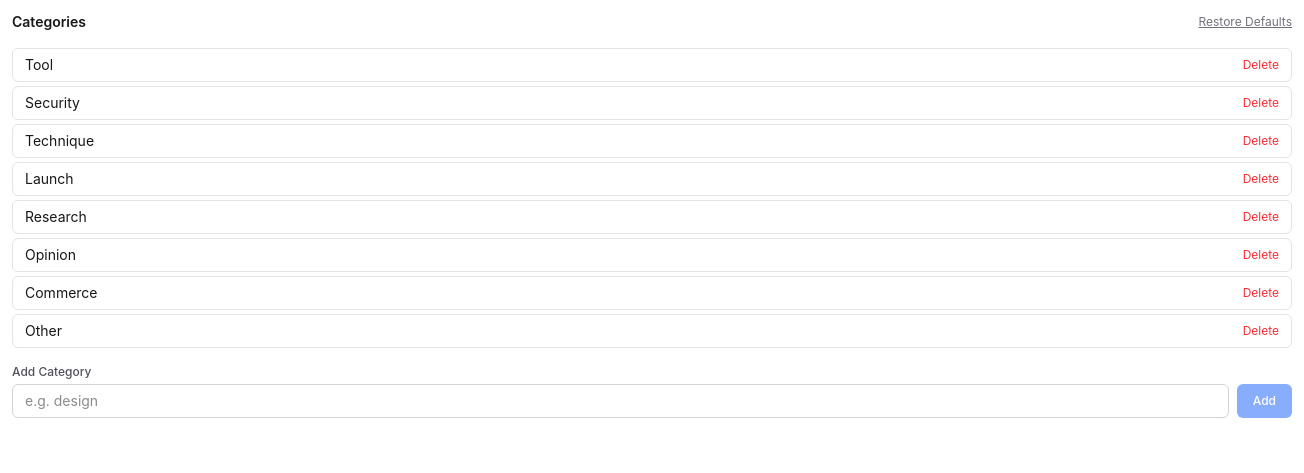
Scenario: CategoryEditor — adding a category › adds a new category and saves to sync storage
Type "design" into the field labelled "Add Category". click: (620, 401)
box: top-left (12, 384), bottom-right (1229, 418)
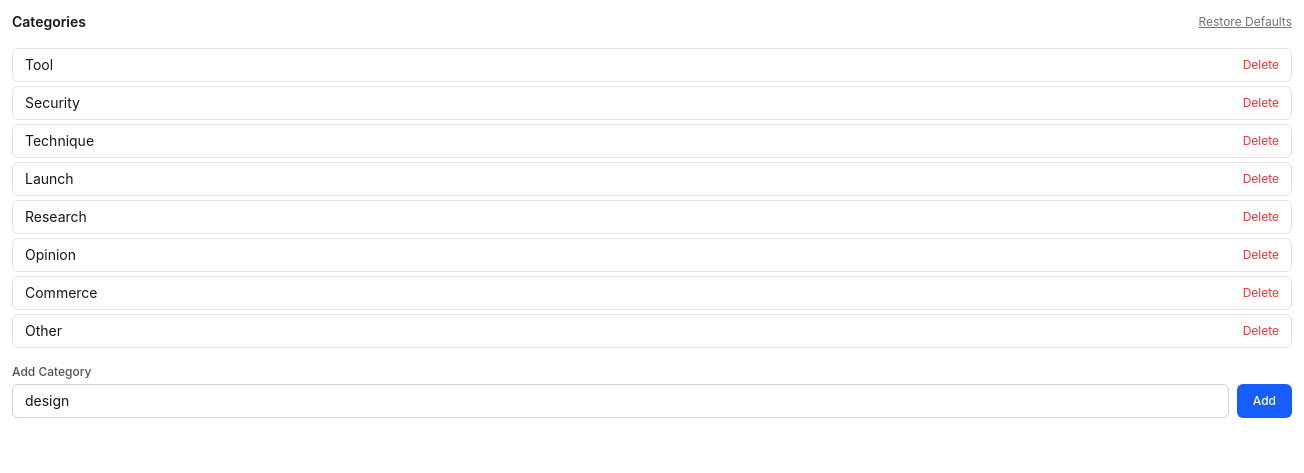
Click the button "Add". click: (1264, 401)
box: top-left (1237, 384), bottom-right (1292, 418)
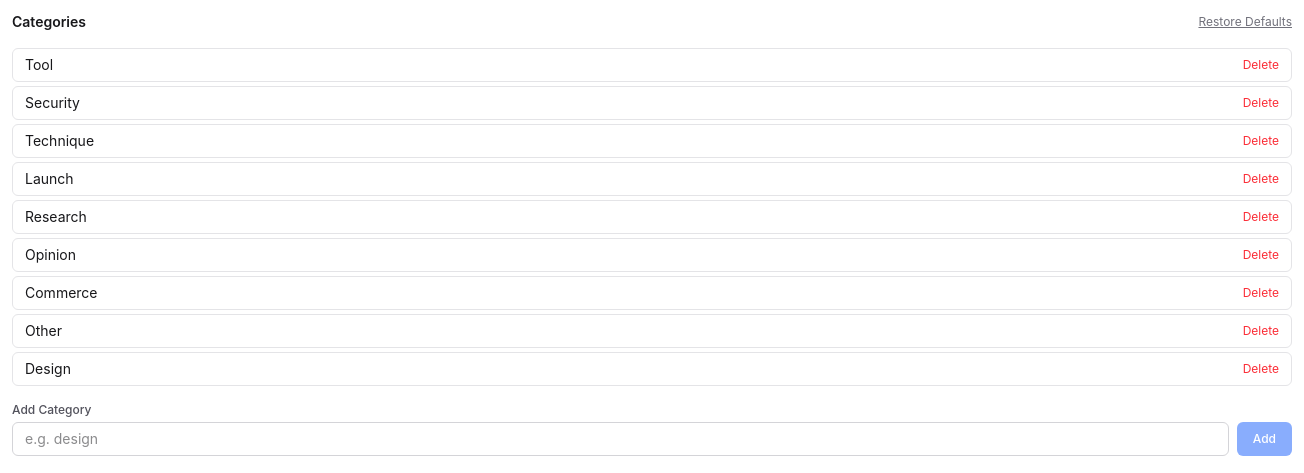
Expected: the text "design" is shown, top-left (25, 359), bottom-right (71, 379)
Expected: the field labelled "Add Category" is empty, top-left (12, 422), bottom-right (1229, 456)
